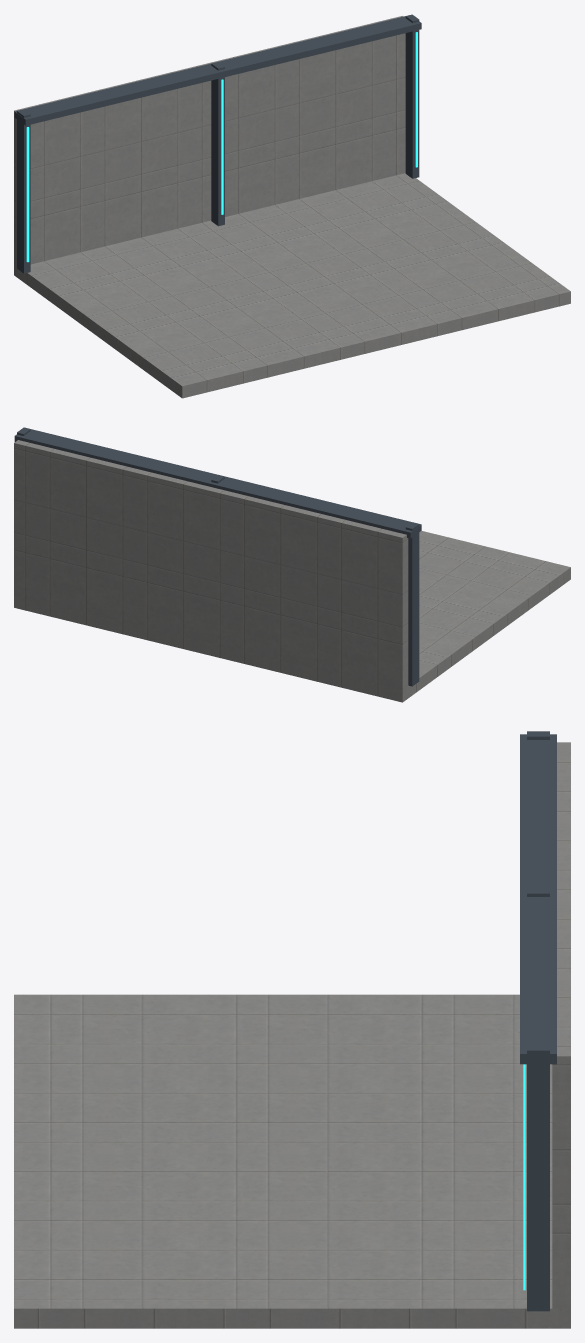
Rendered from environment_probe.glb.
3 renders of one model, top to bottom at view 1: azimuth 30°, elevation 25°; view 2: azimuth 150°, elevation 25°; view 3: azimuth 270°, elevation 25°, orthographic. The views are drawn at different scales.
Visible parts, largest first — view 1: Floor_Module, Wall_Module, Wall_Cap, Steel_Pillar_4, Steel_Pillar_0, Steel_Pillar_-4, Emission_Strip_-4; view 2: Wall_Module, Floor_Module, Wall_Cap, Steel_Pillar_-4; view 3: Floor_Module, Wall_Cap, Wall_Module, Steel_Pillar_4.
Boxes of the visible parts, x1,y1,x2,y2 form: Floor_Module: [14, 173, 570, 398]; Wall_Module: [14, 16, 405, 264]; Wall_Cap: [14, 16, 421, 125]; Steel_Pillar_4: [405, 14, 419, 178]; Steel_Pillar_0: [211, 62, 224, 226]; Steel_Pillar_-4: [17, 109, 30, 273]; Emission_Strip_-4: [26, 127, 29, 262]; Wall_Module: [14, 440, 408, 690]; Floor_Module: [14, 530, 570, 702]; Wall_Cap: [14, 429, 421, 538]; Steel_Pillar_-4: [405, 522, 419, 686]; Floor_Module: [14, 994, 570, 1328]; Wall_Cap: [520, 734, 556, 1064]; Wall_Module: [552, 742, 570, 1308]; Steel_Pillar_4: [527, 1045, 549, 1311].
Size of what is drawn, in the model's own units: 8.15 by 3.34 by 6.
Materials: 3 (1 with a texture image).
